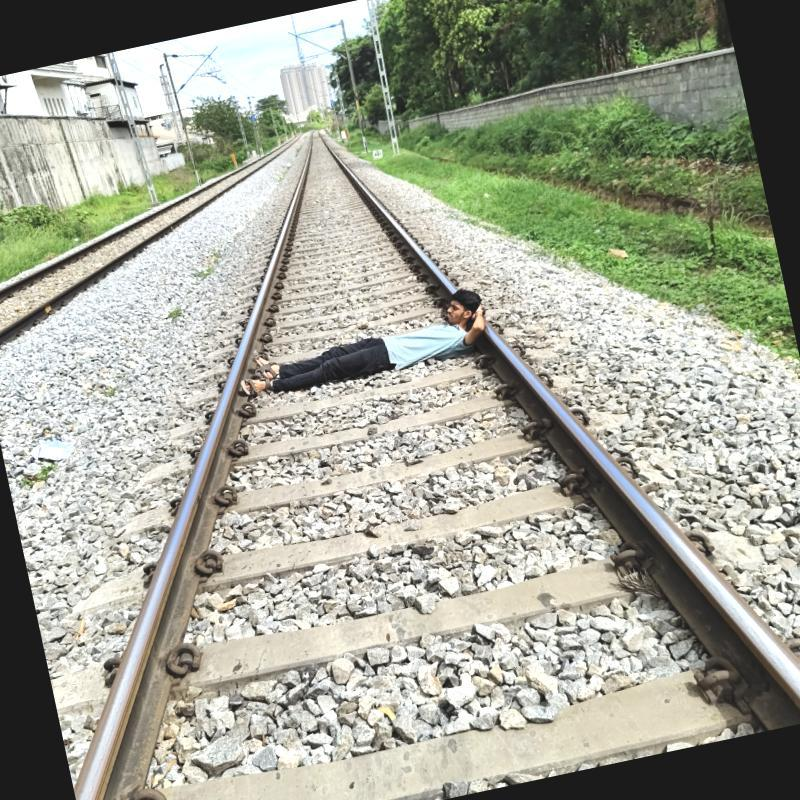sleeping: (218, 274, 503, 414)
